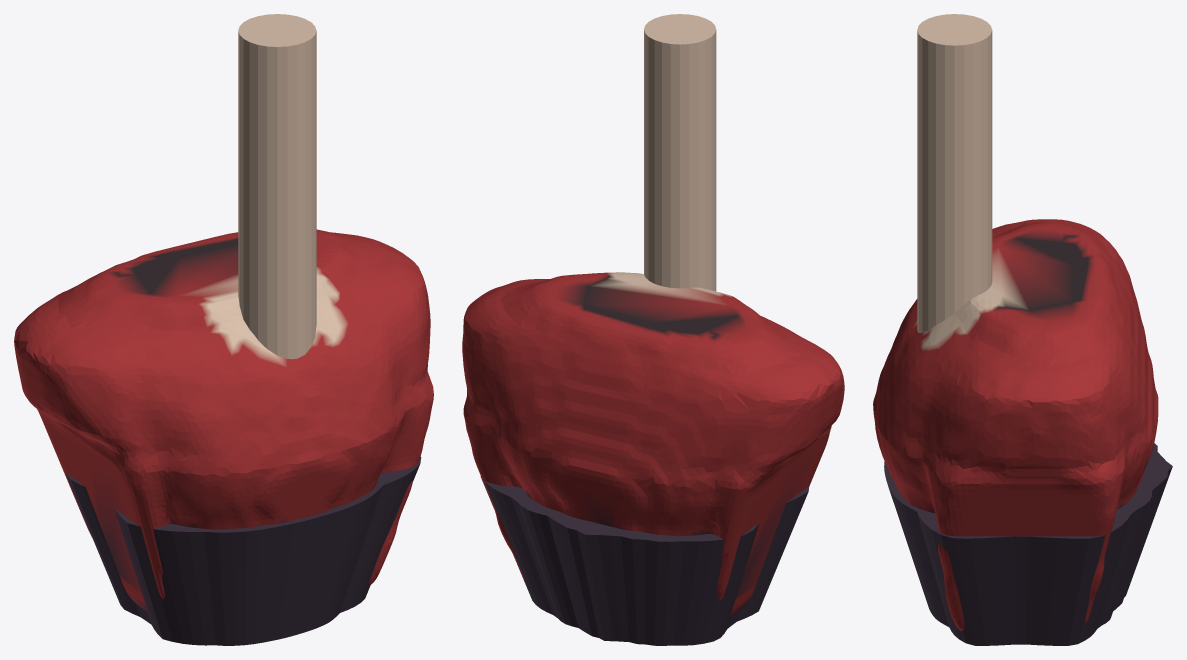
The model's file is torso.glb.
The picture shows the model from 3 angles, left to right: view 1: azimuth 30°, elevation 25°; view 2: azimuth 150°, elevation 25°; view 3: azimuth 270°, elevation 25°; orthographic projection. The views are drawn at different scales.
Visible parts, largest first — view 1: geometry_0; view 2: geometry_0; view 3: geometry_0.
Part boxes in pixels (box(x1,y1,x2,y2)): geometry_0: box(14, 14, 433, 645); geometry_0: box(462, 14, 844, 645); geometry_0: box(873, 14, 1172, 645).
Bounding box in the file's own units: 0.5154 × 0.7668 × 0.3657.
